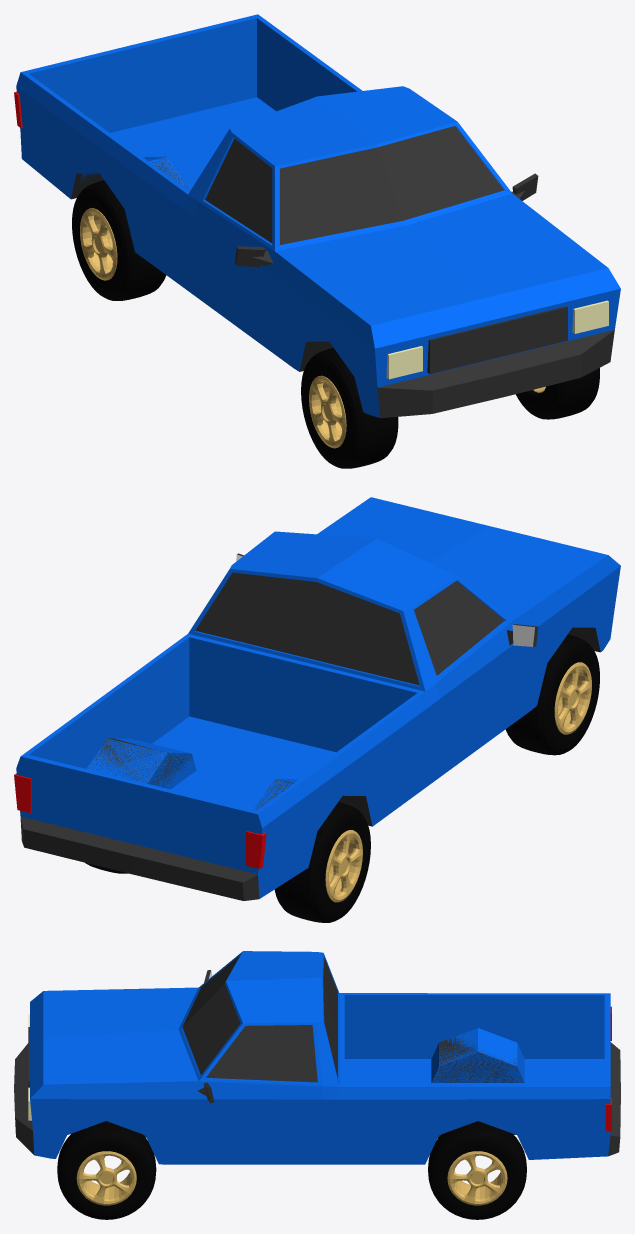
The model's file is Car.fbx.
The picture shows the model from 3 angles, top to bottom: view 1: azimuth 30°, elevation 25°; view 2: azimuth 150°, elevation 25°; view 3: azimuth 270°, elevation 25°; orthographic projection. The views are drawn at different scales.
Visible parts, largest first — view 1: Car, FR, BR, FL; view 2: Car, BR, FR; view 3: Car, FL, BL.
Part boxes in pixels (x1=…): Car: x1=14, y1=14, x2=620, y2=418; FR: x1=301, y1=348, x2=398, y2=468; BR: x1=72, y1=180, x2=166, y2=300; FL: x1=516, y1=368, x2=599, y2=419; Car: x1=14, y1=497, x2=620, y2=900; BR: x1=274, y1=802, x2=370, y2=922; FR: x1=505, y1=634, x2=599, y2=755; Car: x1=14, y1=951, x2=620, y2=1164; FL: x1=57, y1=1121, x2=156, y2=1219; BL: x1=428, y1=1121, x2=526, y2=1219.
Size of the model in its own units: 151 by 117 by 327.
Materials: 3 (1 with a texture image).
